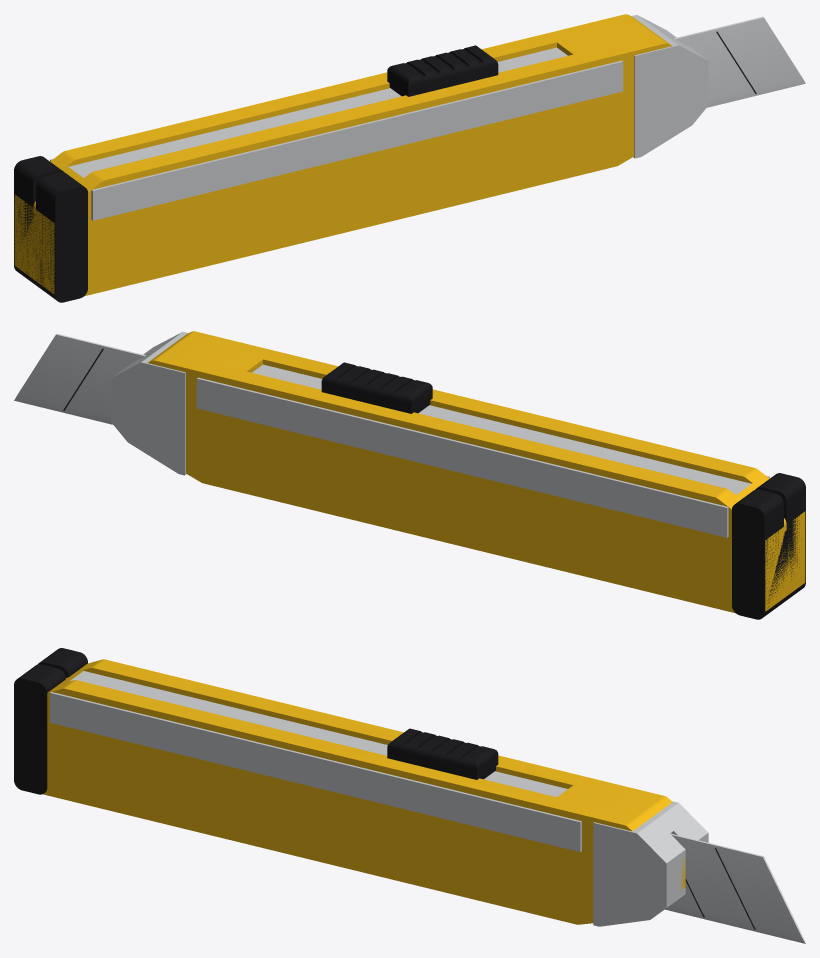
File: knife.glb
3 renders of one model, top to bottom at view 1: azimuth 30°, elevation 25°; view 2: azimuth 150°, elevation 25°; view 3: azimuth 330°, elevation 25°, orthographic.
Parts seen in each view (by area): view 1: knife_yellow_plastic, knife_steel, knife_black_plastic, knife_blade; view 2: knife_yellow_plastic, knife_steel, knife_black_plastic, knife_blade; view 3: knife_yellow_plastic, knife_steel, knife_black_plastic, knife_blade.
Part boxes in pixels (x1,y1,x2,y2): knife_yellow_plastic: [14, 14, 671, 296]; knife_steel: [50, 15, 708, 220]; knife_black_plastic: [14, 45, 498, 302]; knife_blade: [674, 16, 805, 107]; knife_yellow_plastic: [148, 331, 805, 613]; knife_steel: [111, 332, 769, 537]; knife_black_plastic: [321, 362, 805, 619]; knife_blade: [14, 333, 145, 424]; knife_yellow_plastic: [43, 659, 685, 924]; knife_steel: [50, 661, 708, 926]; knife_black_plastic: [14, 648, 498, 794]; knife_blade: [665, 833, 805, 943].
Bounding box in the file's own units: 0.189 × 0.0301 × 0.0182.
